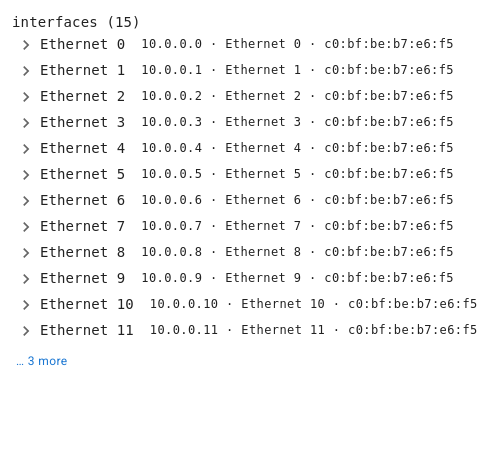
FactTree › folds a long list between records rather than at a height, and says how many it held back
Check: the heading "Ethernet 11" is shown, box [40,320,134,342]
Check: the text "Ethernet 12" is not shown
Click the button "… 3 more" at (42, 362), box [16,352,68,372]
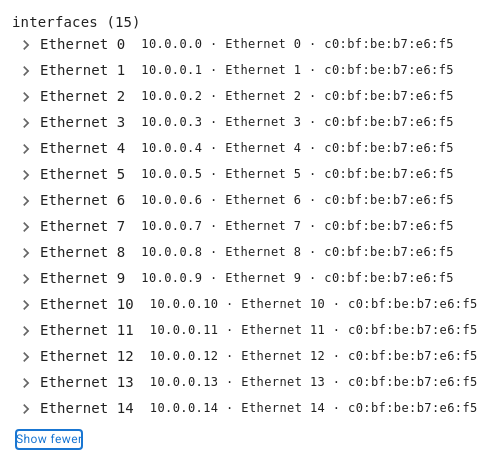
Check: the heading "Ethernet 14" is shown, box [40,398,134,420]
Click the button "Show fewer" at (49, 439), box [16,430,82,449]
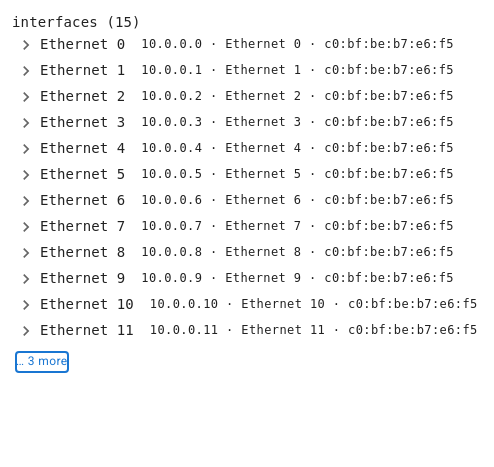
Check: the button "Ethernet 12" is gone
